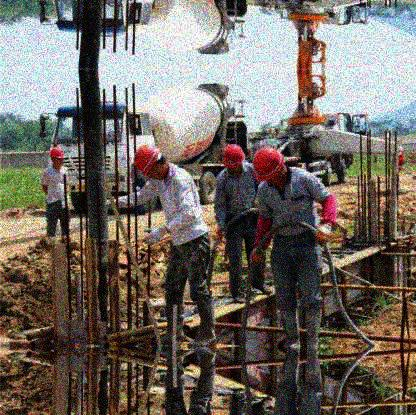helmet: (253, 146, 289, 188), (133, 145, 168, 181), (222, 144, 246, 177), (49, 148, 67, 167)
